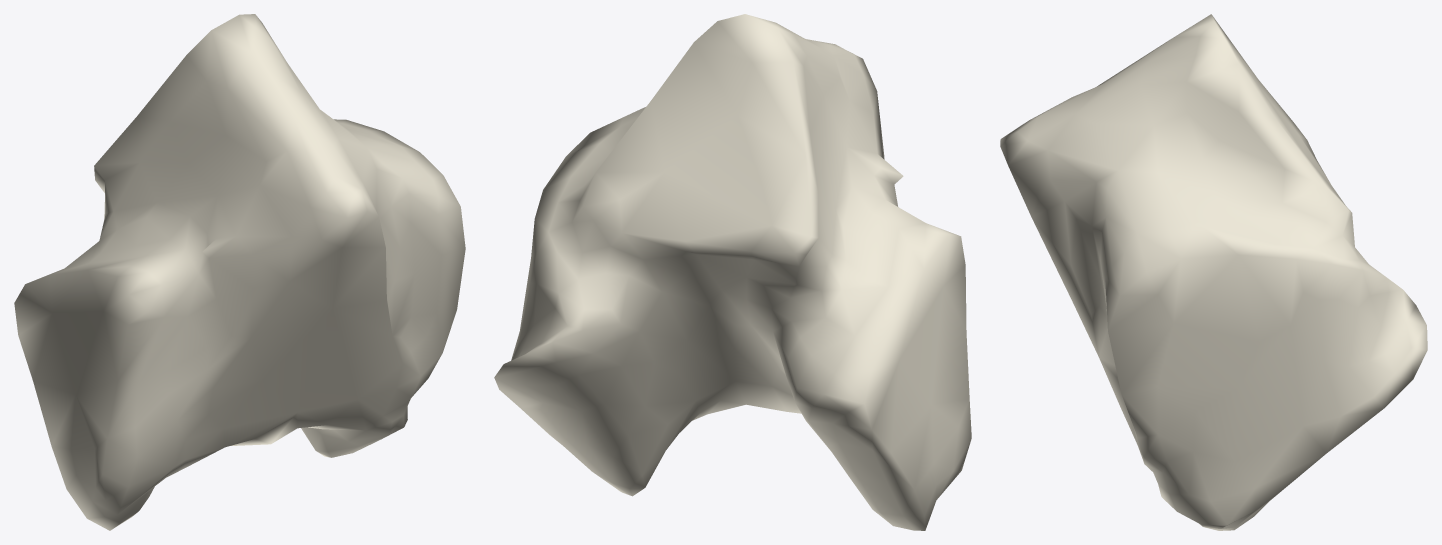
File: fma75755_mm965.glb
3 views of the same model, side by side, from view 1: azimuth 30°, elevation 25°; view 2: azimuth 150°, elevation 25°; view 3: azimuth 270°, elevation 25° (orthographic). The views are drawn at different scales.
Parts seen in each view (by area): view 1: FMA75755_MM965; view 2: FMA75755_MM965; view 3: FMA75755_MM965.
Part boxes in pixels (left/top/right/bottom): FMA75755_MM965: left=14, top=14, right=465, bottom=530; FMA75755_MM965: left=494, top=14, right=971, bottom=530; FMA75755_MM965: left=1000, top=14, right=1427, bottom=530.
Bounding box in the file's own units: 0.00775 × 0.0101 × 0.00847.
